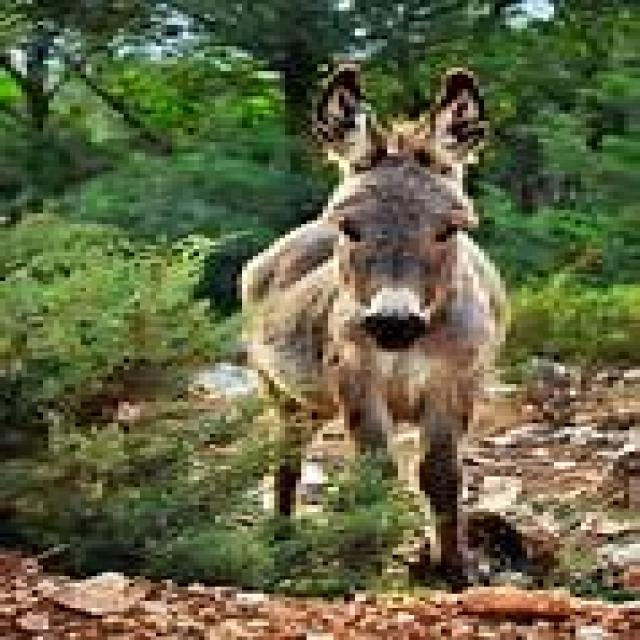Donkey: (208, 49, 584, 569)
